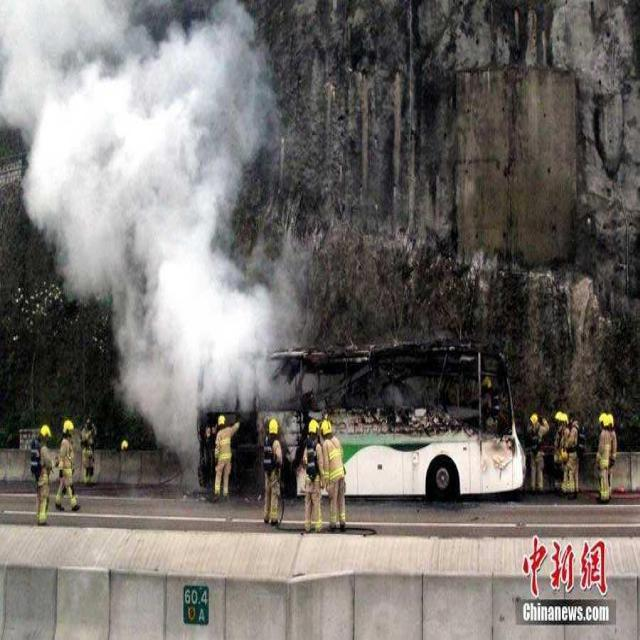Smoke: (0, 3, 267, 408)
